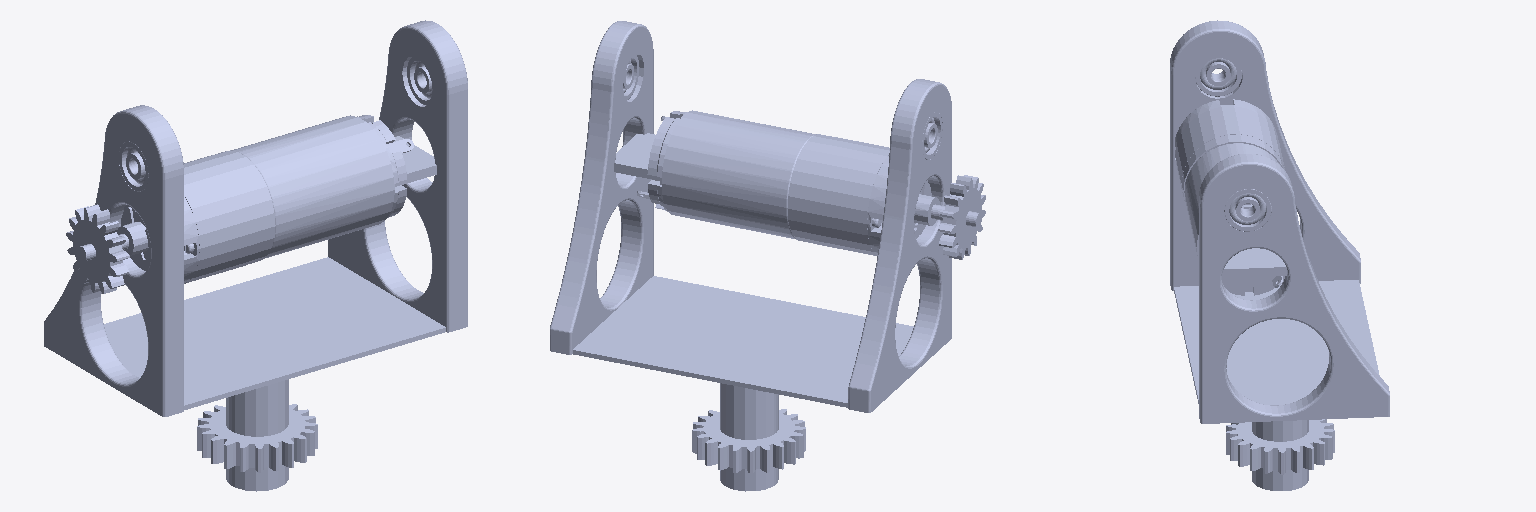
robot.urdf — Bot_Nozzle_Base_01:
<?xml version="1.0" encoding="utf-8"?>
<!-- This URDF was automatically created by SolidWorks to URDF Exporter! Originally created by [author] ([email redacted]) 
     Commit Version: 1.6.0-1-g15f4949  Build Version: 1.6.7594.29634
     For more information, please see http://wiki.ros.org/sw_urdf_exporter -->
<robot
  name="Bot_Nozzle_Base_01">
  <link
    name="base_nozzle_01">
    <inertial>
      <origin
        xyz="0.166839420170388 0.351666830671068 0.467184609001008"
        rpy="0 0 0" />
      <mass
        value="0.0381706874200227" />
      <inertia
        ixx="6.5559991434075E-06"
        ixy="-7.18765777052477E-08"
        ixz="3.08850818771226E-07"
        iyy="7.78641890118196E-06"
        iyz="-7.03752504145784E-07"
        izz="9.88036445284924E-06" />
    </inertial>
    <visual>
      <origin
        xyz="0 0 0"
        rpy="0 0 0" />
      <geometry>
        <mesh
          filename="package://Bot_Nozzle_Base_01/meshes/base_nozzle_01.STL" />
      </geometry>
      <material
        name="">
        <color
          rgba="0.792156862745098 0.819607843137255 0.933333333333333 1" />
      </material>
    </visual>
    <collision>
      <origin
        xyz="0 0 0"
        rpy="0 0 0" />
      <geometry>
        <mesh
          filename="package://Bot_Nozzle_Base_01/meshes/base_nozzle_01.STL" />
      </geometry>
    </collision>
  </link>
</robot>

--- Render facts (derived) ---
3 views of the same robot in one strip: view 1: azimuth 30°, elevation 25°; view 2: azimuth 150°, elevation 25°; view 3: azimuth 270°, elevation 25° (orthographic).
Robot: Bot_Nozzle_Base_01 — 1 links, 0 joints (none); root link base_nozzle_01; default pose: every joint at zero.
Links seen in each view (by area): view 1: base_nozzle_01; view 2: base_nozzle_01; view 3: base_nozzle_01.
Link boxes in pixels (x1,y1,x2,y2): base_nozzle_01: (44,20,467,491); base_nozzle_01: (550,21,985,491); base_nozzle_01: (1170,20,1389,490).
Size in the robot's own frame: 0.083 by 0.0463 by 0.09 metres.
Meshes: 1 distinct files referenced, 1 mesh visuals loaded (1 binary STL).